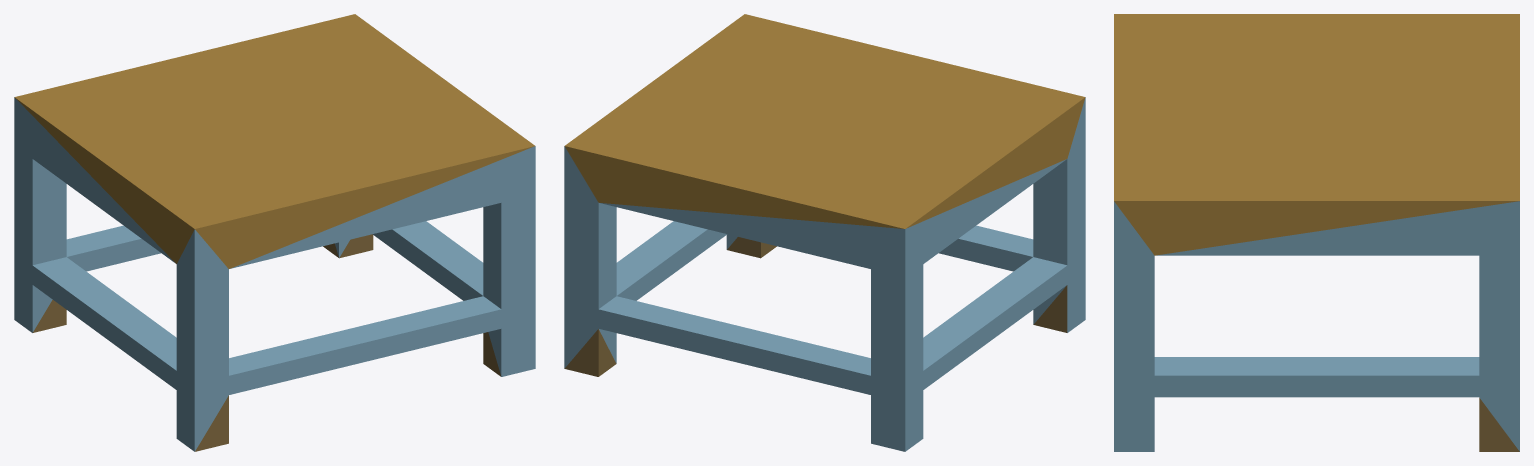
The model's file is low_table.glb.
3 renders of one model, left to right at view 1: azimuth 30°, elevation 25°; view 2: azimuth 150°, elevation 25°; view 3: azimuth 270°, elevation 25°, orthographic. The views are drawn at different scales.
Visible parts, largest first — view 1: low_table; view 2: low_table; view 3: low_table.
Part boxes in pixels (x1,y1,x2,y2): low_table: (14, 14, 535, 451); low_table: (564, 14, 1085, 451); low_table: (1114, 14, 1519, 451).
Size of the model in its own units: 0.72 by 0.45 by 0.66.
